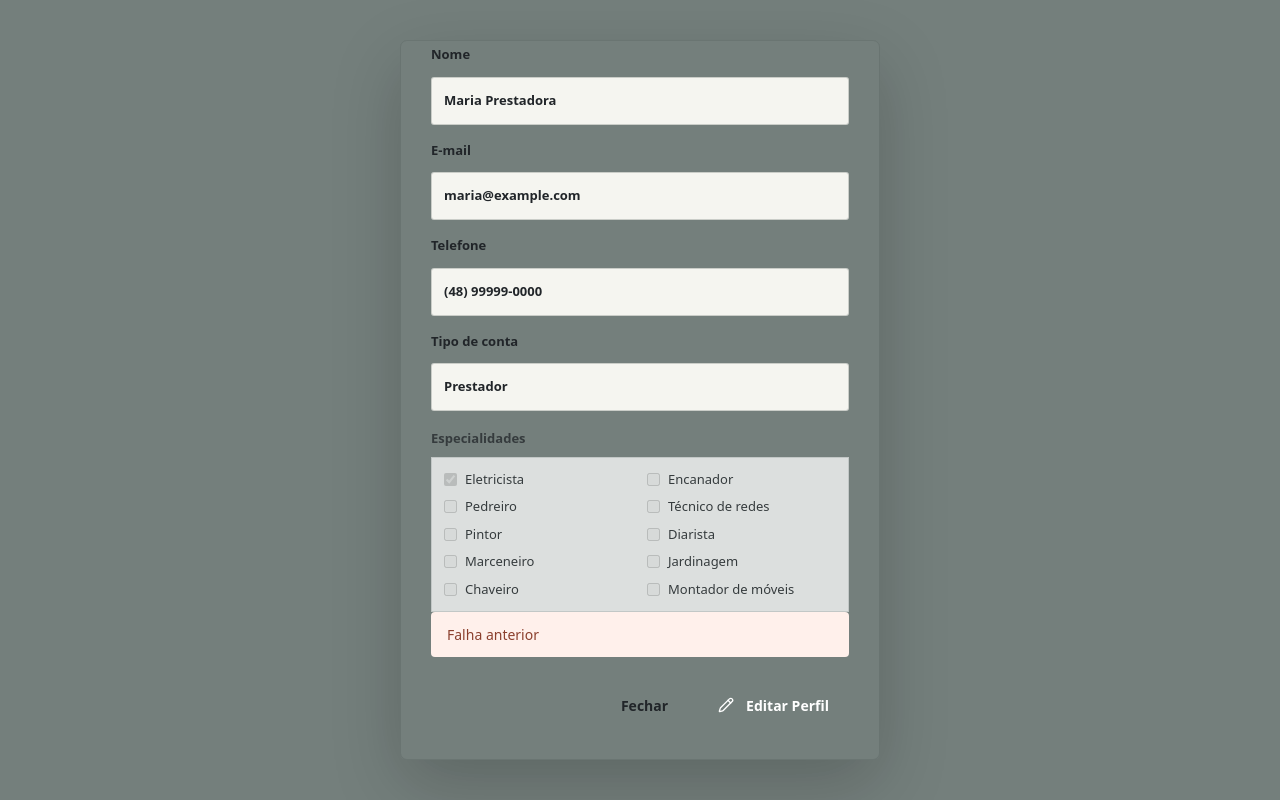
ModalPerfilUsuario › limpa erro anterior ao entrar novamente no modo de edição
(page scrolled)
Expected: the message reads "Falha anterior", [447,625,539,644]
What coordinates should you click on to do the following:
click the button "Editar Perfil"
I would click on:
 (774, 705)
Its box is [698,681,849,729].
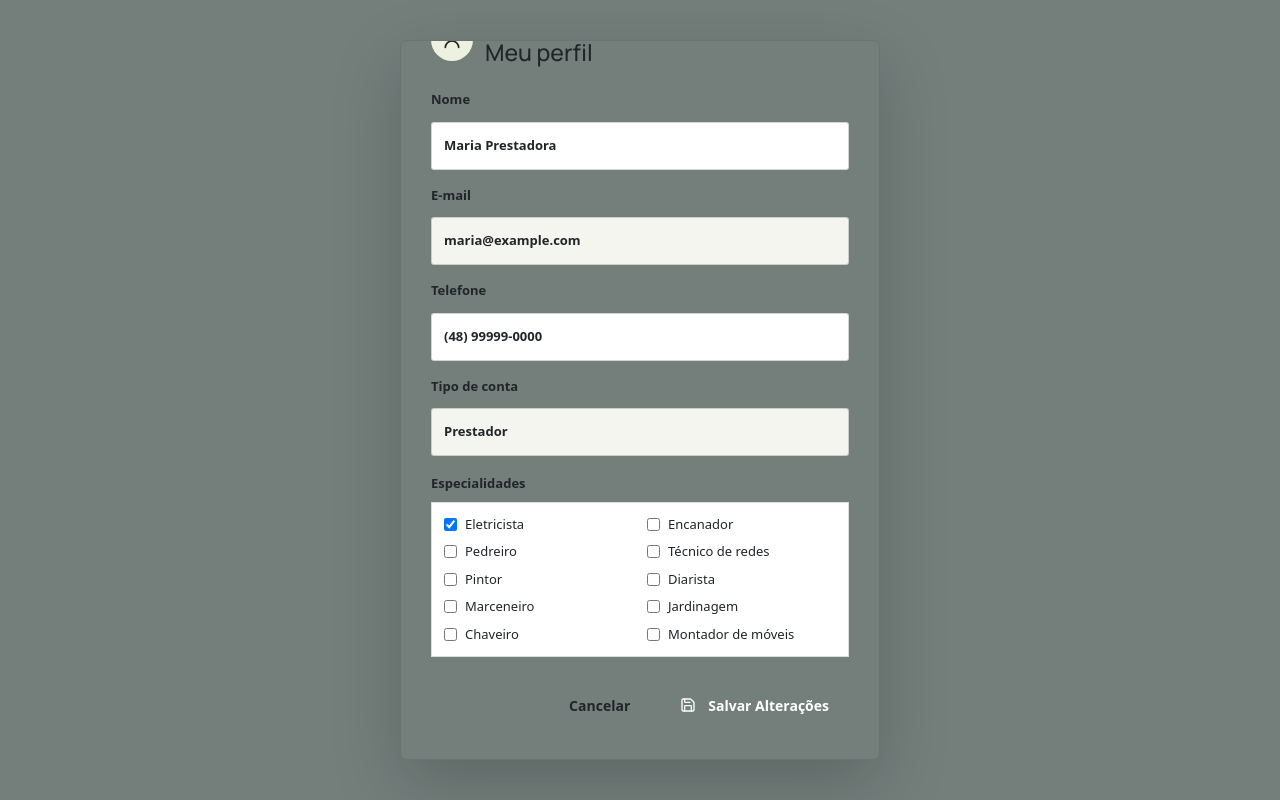
Expected: the message "Falha anterior" is gone
